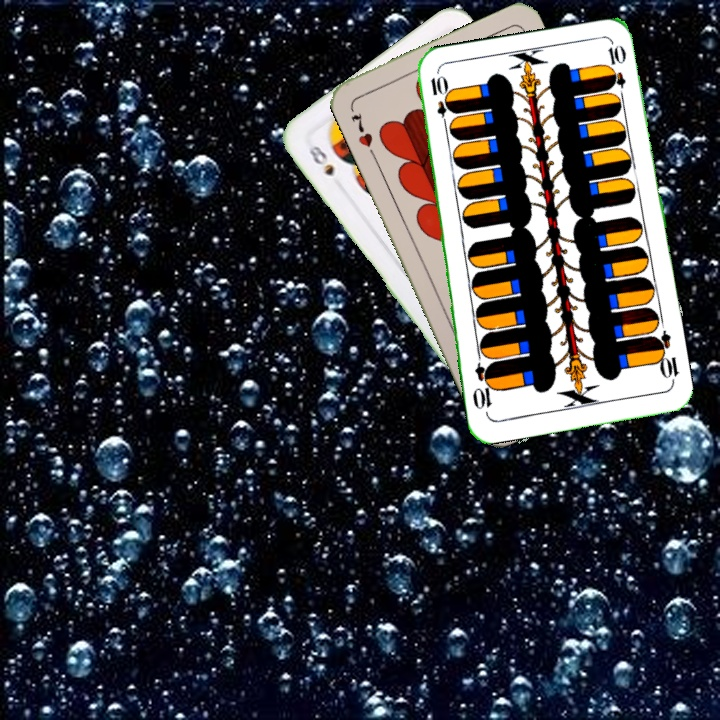E10: (648, 328, 682, 387), (426, 71, 453, 130)
H7: (346, 108, 376, 150)
S8: (304, 141, 337, 179)
